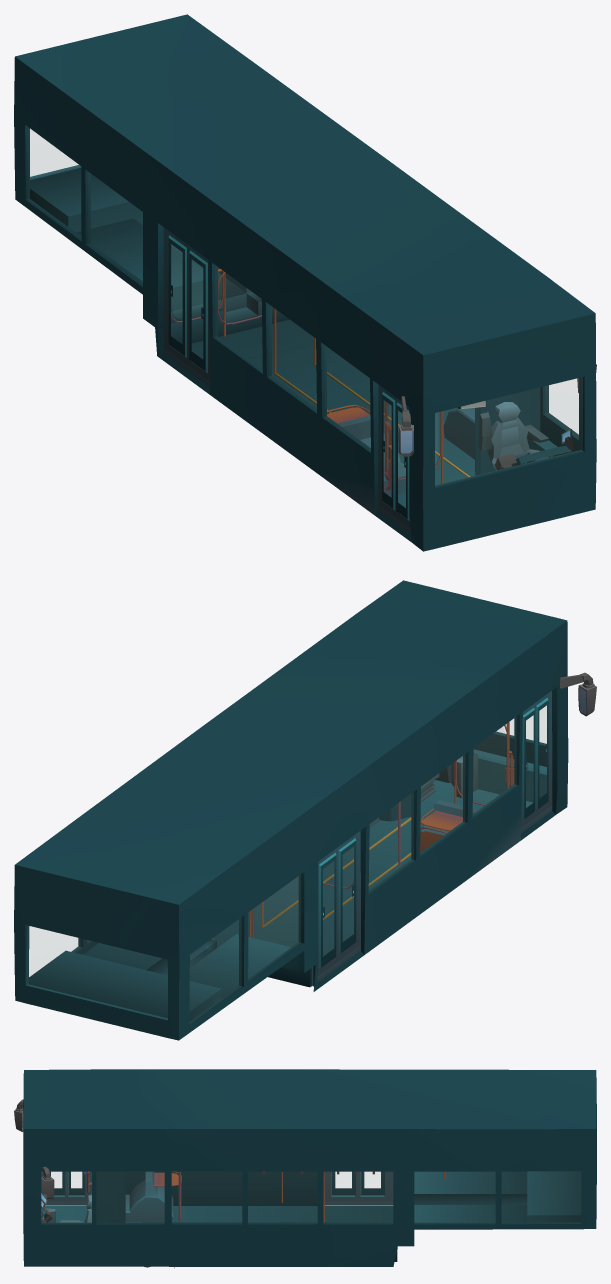
File: bus_completeBus_mdl.fbx
3 views of the same model, one above another, from view 1: azimuth 30°, elevation 25°; view 2: azimuth 150°, elevation 25°; view 3: azimuth 270°, elevation 25° (orthographic). The views are drawn at different scales.
Parts seen in each view (by area): view 1: bus_mdl; view 2: bus_mdl; view 3: bus_mdl.
Boxes of the visible parts, x1,y1,x2,y2 form: bus_mdl: (14, 14, 596, 551); bus_mdl: (14, 580, 596, 1040); bus_mdl: (14, 1069, 596, 1268).
Size of the model in its own units: 340 by 331 by 1134.
